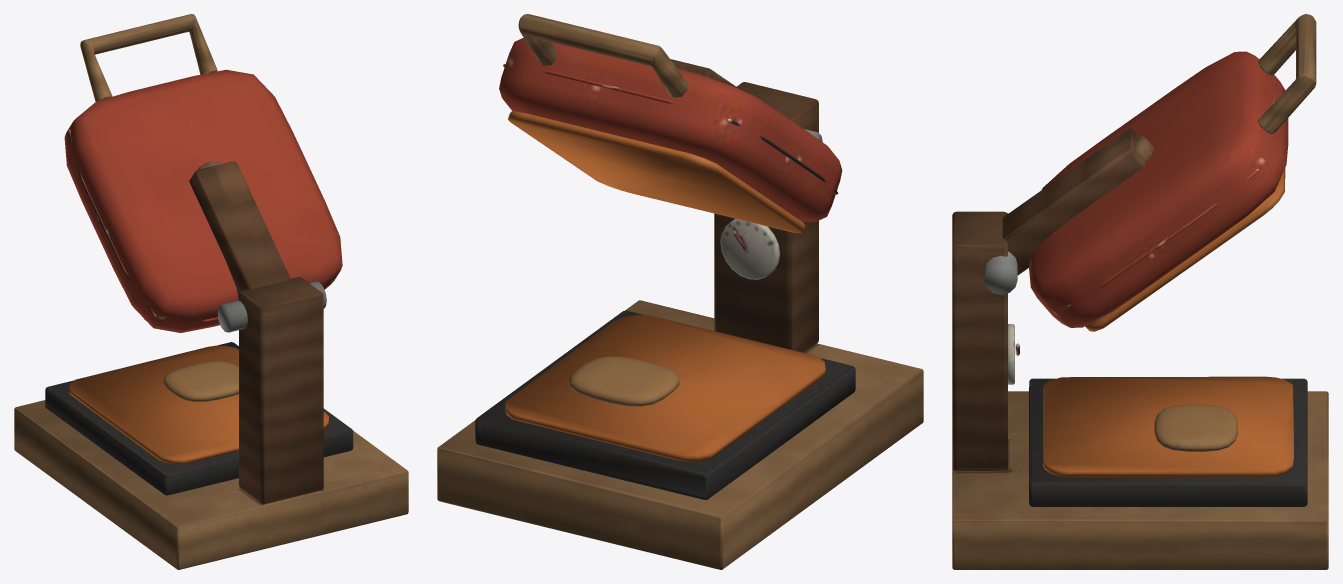
The model's file is heat_press.glb.
3 views of the same model, side by side, from view 1: azimuth 30°, elevation 25°; view 2: azimuth 150°, elevation 25°; view 3: azimuth 270°, elevation 25° (orthographic). The views are drawn at different scales.
Visible parts, largest first — view 1: prop_heat_press_wood, prop_heat_press_felt, prop_heat_press_felt_heat; view 2: prop_heat_press_wood, prop_heat_press_felt, prop_heat_press_felt_heat; view 3: prop_heat_press_wood, prop_heat_press_felt, prop_heat_press_felt_heat.
Boxes of the visible parts, x1,y1,x2,y2 form: prop_heat_press_wood: [14, 14, 408, 569]; prop_heat_press_felt: [45, 69, 353, 495]; prop_heat_press_felt_heat: [69, 319, 328, 464]; prop_heat_press_wood: [437, 14, 923, 569]; prop_heat_press_felt: [475, 38, 855, 499]; prop_heat_press_felt_heat: [505, 111, 825, 461]; prop_heat_press_wood: [952, 14, 1328, 569]; prop_heat_press_felt: [984, 51, 1307, 506]; prop_heat_press_felt_heat: [1043, 168, 1293, 477].
Size of the model in its own units: 0.44 by 0.731 by 0.54.
3 materials, 3 textured.
